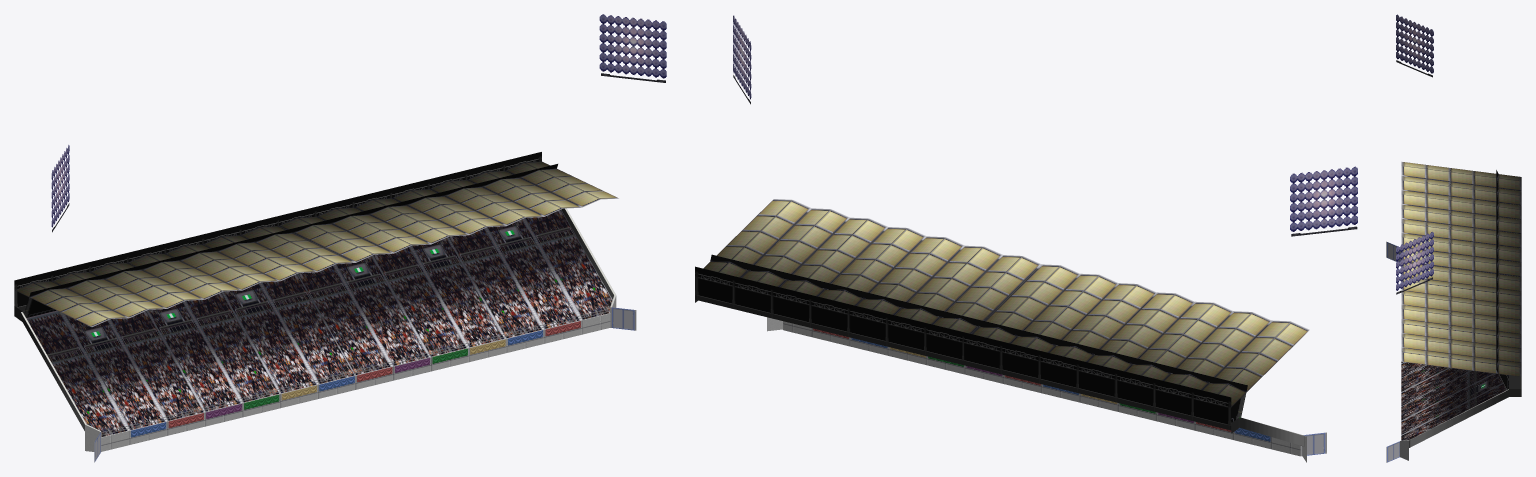
The picture shows the model from 3 angles, left to right: view 1: azimuth 30°, elevation 25°; view 2: azimuth 150°, elevation 25°; view 3: azimuth 270°, elevation 25°; orthographic projection. The views are drawn at different scales.
Bounding box in the file's own units: 104 × 48 × 25.6.
Materials: 21 (21 with a texture image).
